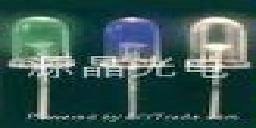LED: (97, 13, 167, 120), (185, 16, 256, 115), (8, 16, 73, 114)
